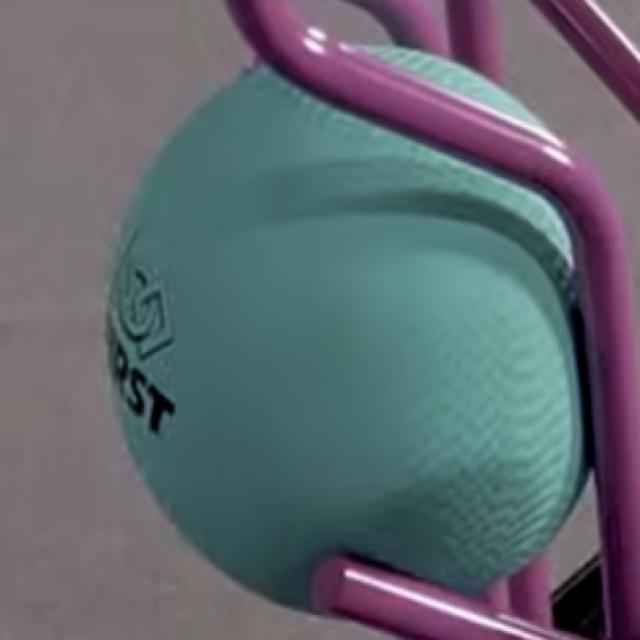Algae: (107, 49, 594, 620)
Reef: (314, 558, 578, 640)
